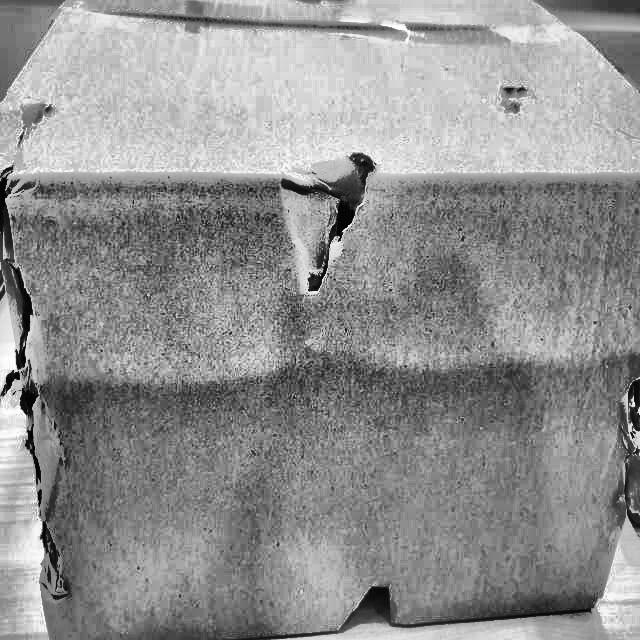box: (0, 2, 639, 639)
hole: (2, 181, 62, 575), (288, 146, 375, 299), (322, 564, 404, 636)
